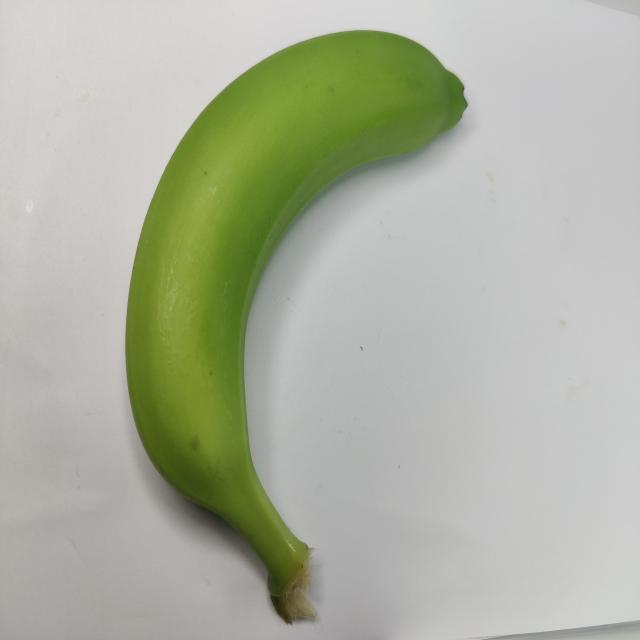raw: (101, 11, 476, 611)
